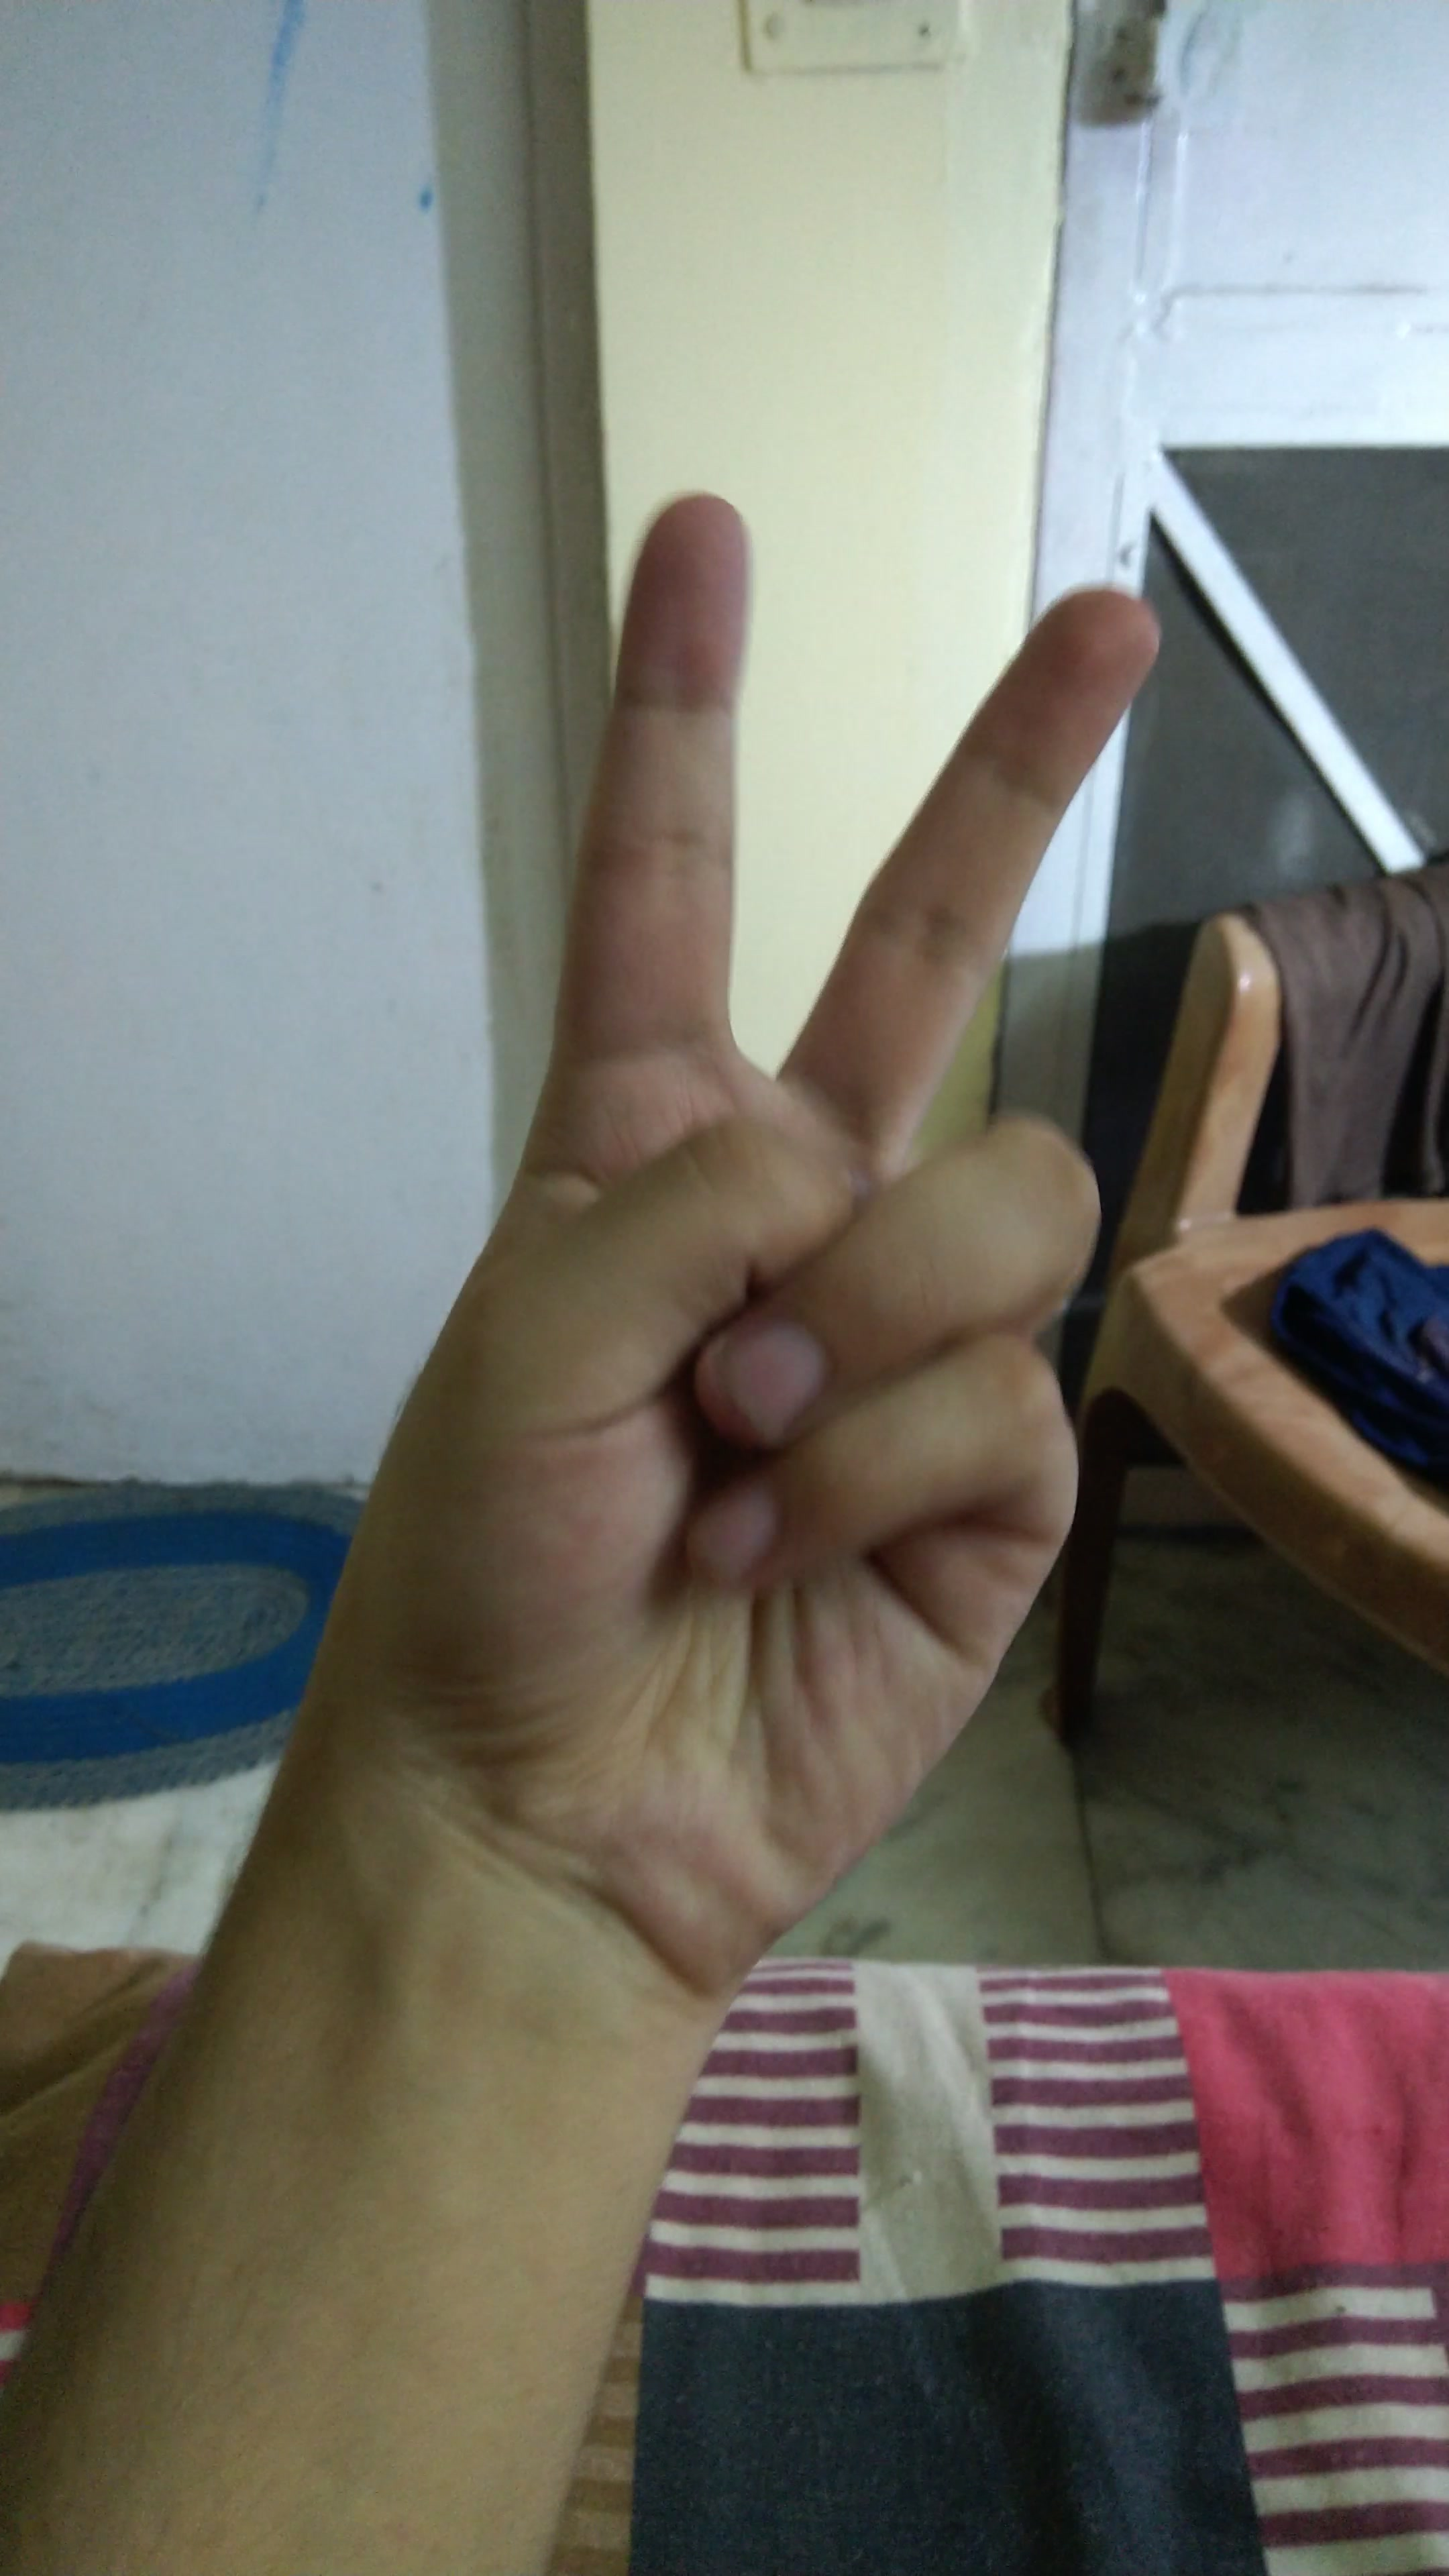hand: (281, 449, 1231, 1978)
